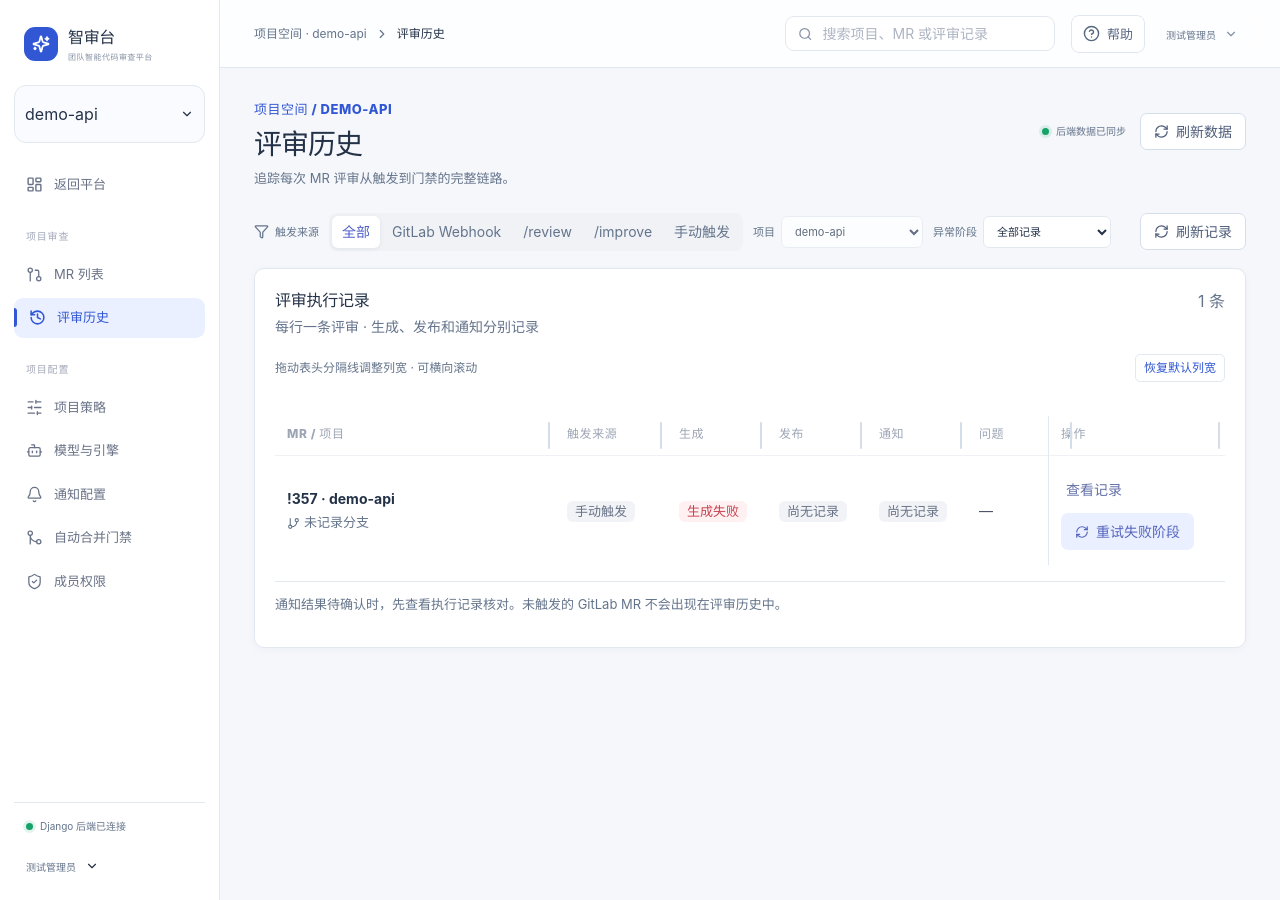
Test case: keeps retry on history without silently selecting a detail record
Click the button "重试失败阶段": click(1128, 532) [1061,513,1194,550]
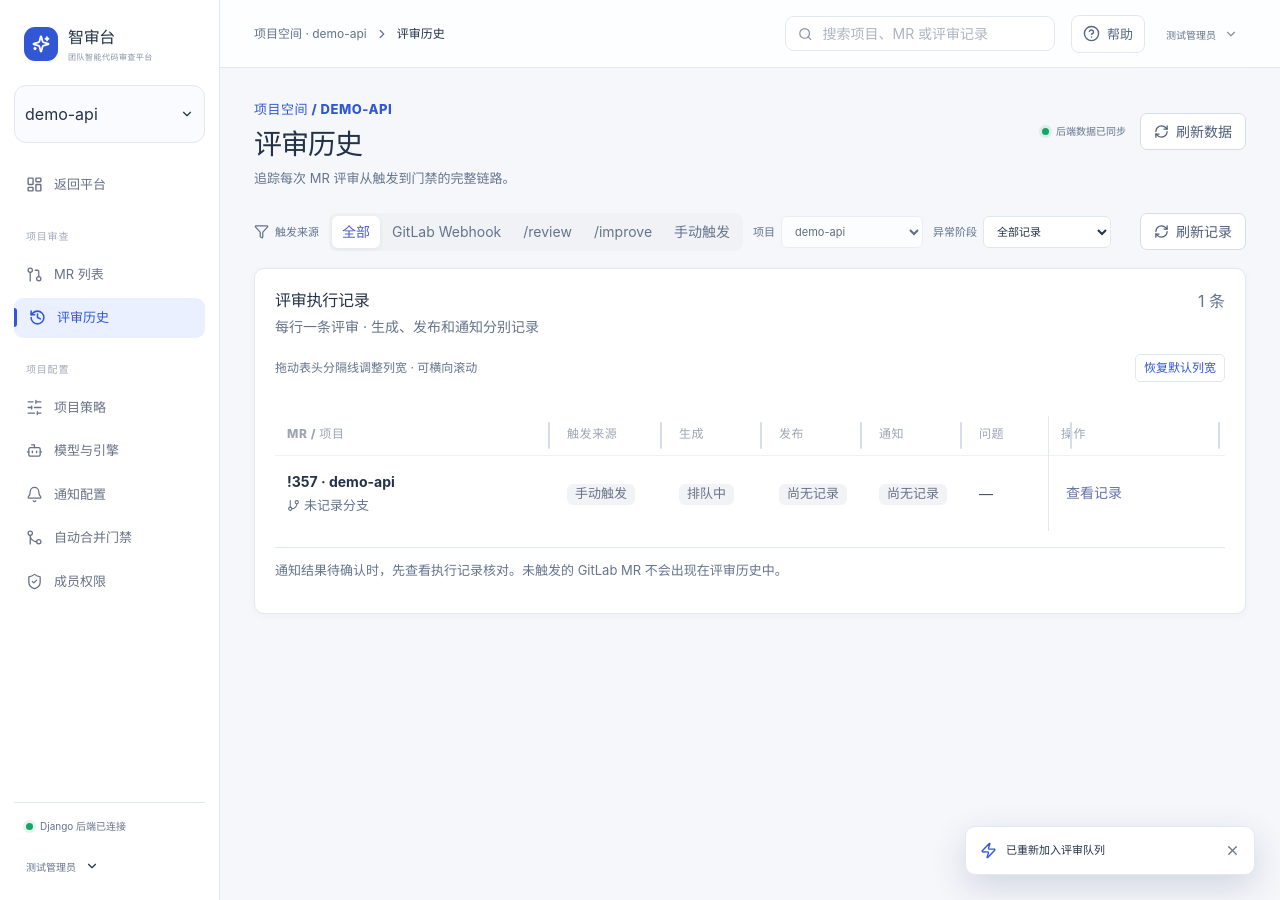
Check: the text "已重新加入评审队列" is shown, box [1006,843,1105,857]
Check: the text "排队中" is shown, box [679,484,734,504]
Check: the button "重试失败阶段" is gone
